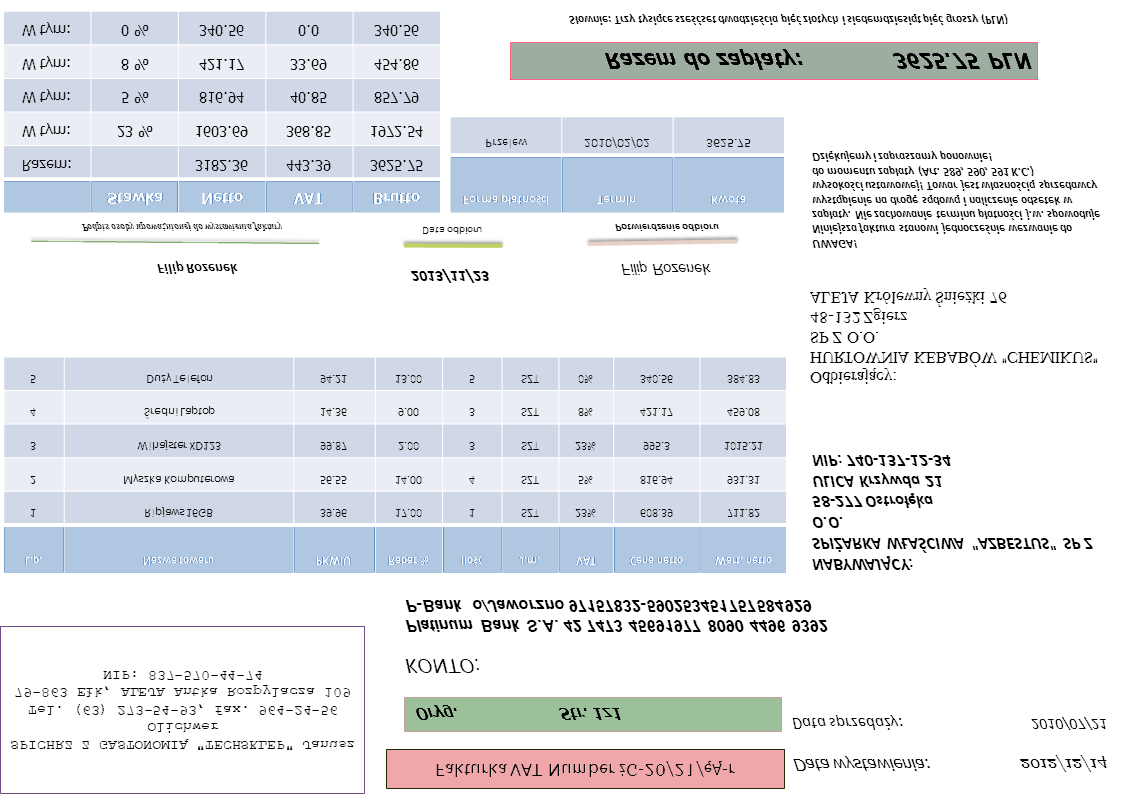Table: (2, 356, 788, 575), (1, 11, 441, 214), (449, 114, 787, 216)
TextBox: (809, 450, 1098, 574), (9, 665, 355, 755), (810, 149, 1102, 252), (807, 288, 1099, 386), (403, 593, 833, 637), (601, 47, 1032, 76), (565, 10, 1011, 28), (432, 757, 739, 782), (413, 702, 624, 725), (79, 220, 285, 235), (789, 755, 934, 775), (788, 712, 905, 732), (617, 259, 714, 280), (1018, 753, 1109, 774), (1027, 714, 1109, 735), (155, 259, 238, 279), (407, 266, 490, 286), (403, 655, 481, 676), (612, 220, 722, 234), (417, 222, 483, 239)
